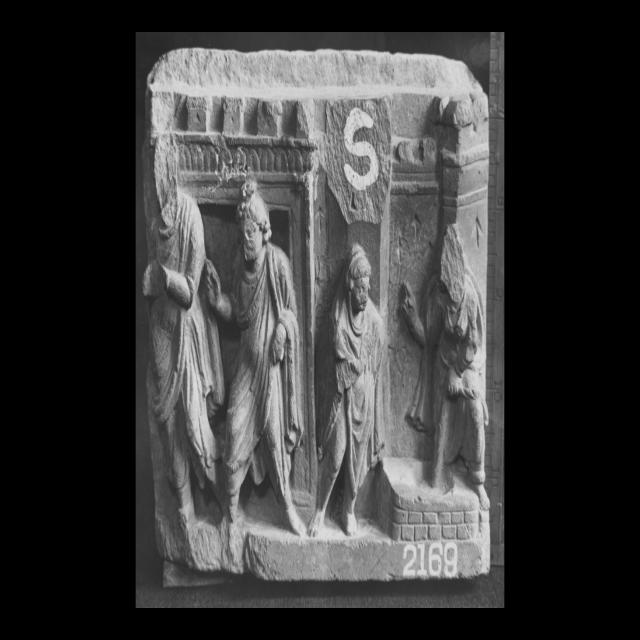buddha-standing: (401, 227, 490, 512)
